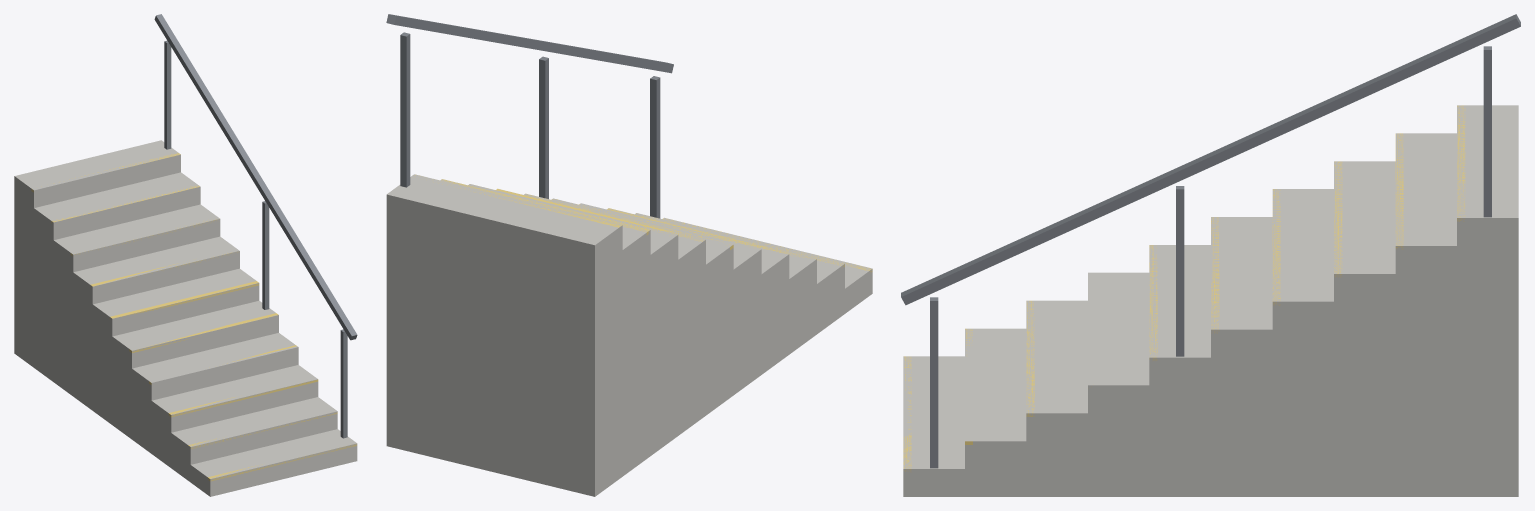
File: tramo_escalera.glb
3 renders of one model, left to right at view 1: azimuth 30°, elevation 25°; view 2: azimuth 150°, elevation 25°; view 3: azimuth 270°, elevation 25°, orthographic. The views are drawn at different scales.
Visible parts, largest first — view 1: tramo_escalera; view 2: tramo_escalera; view 3: tramo_escalera.
Part boxes in pixels (x1,y1,x2,y2): tramo_escalera: [14, 14, 357, 496]; tramo_escalera: [386, 14, 872, 496]; tramo_escalera: [901, 14, 1520, 496].
Size of the model in its own units: 1.3 by 2.57 by 3.02.
